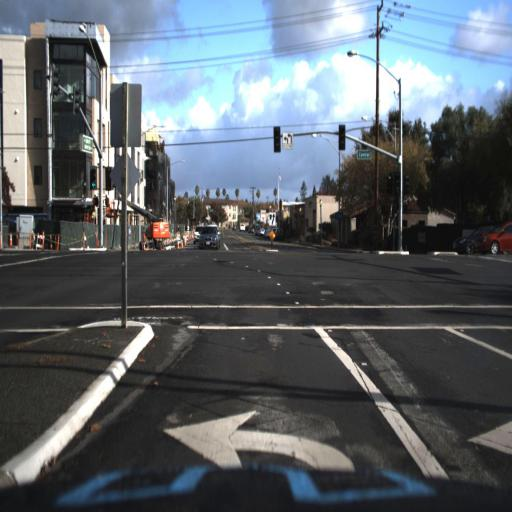car: (448, 231, 486, 258), (454, 230, 488, 252), (196, 227, 218, 248), (193, 225, 203, 249), (239, 220, 248, 238)
trafficLight-GreenLeft: (271, 121, 283, 154), (90, 169, 98, 192)
trafficLight-Red: (335, 123, 344, 156), (392, 165, 402, 193), (273, 126, 281, 153)
